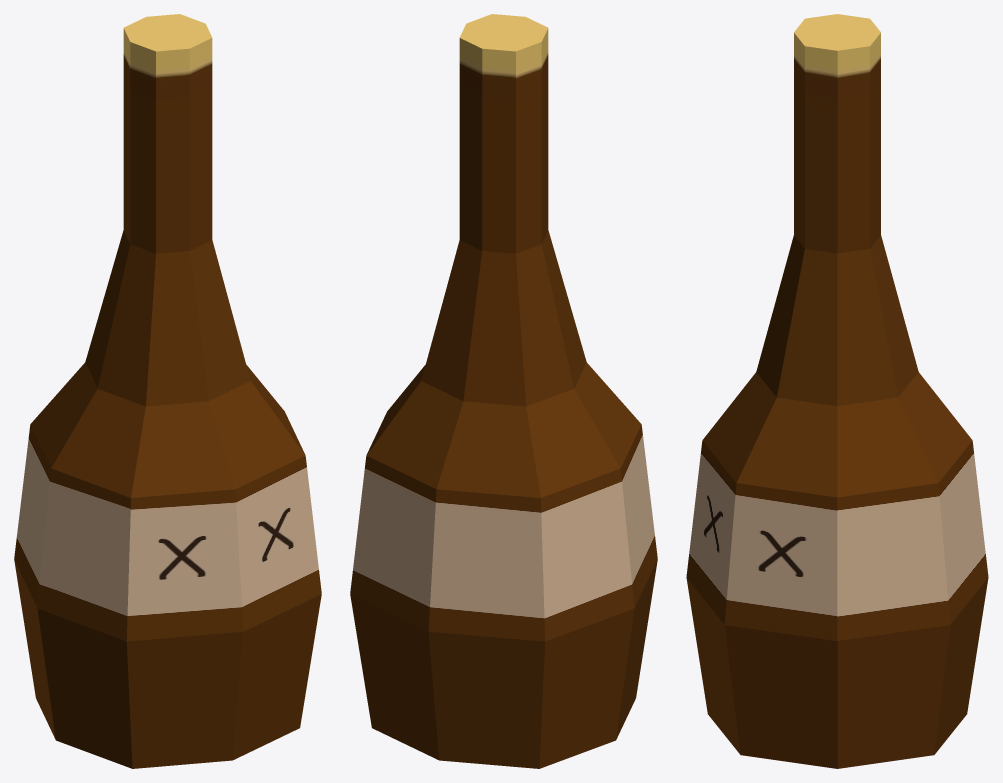
File: booze_bottle1.glb
The picture shows the model from 3 angles, left to right: view 1: azimuth 30°, elevation 25°; view 2: azimuth 150°, elevation 25°; view 3: azimuth 270°, elevation 25°; orthographic projection.
Parts seen in each view (by area): view 1: bottle; view 2: bottle; view 3: bottle.
Part boxes in pixels (x1,y1,x2,y2): bottle: (14,14,321,768); bottle: (350,14,657,768); bottle: (686,14,988,768).
Bounding box in the file's own units: 2 × 4.98 × 2.
1 material, 1 textured.
